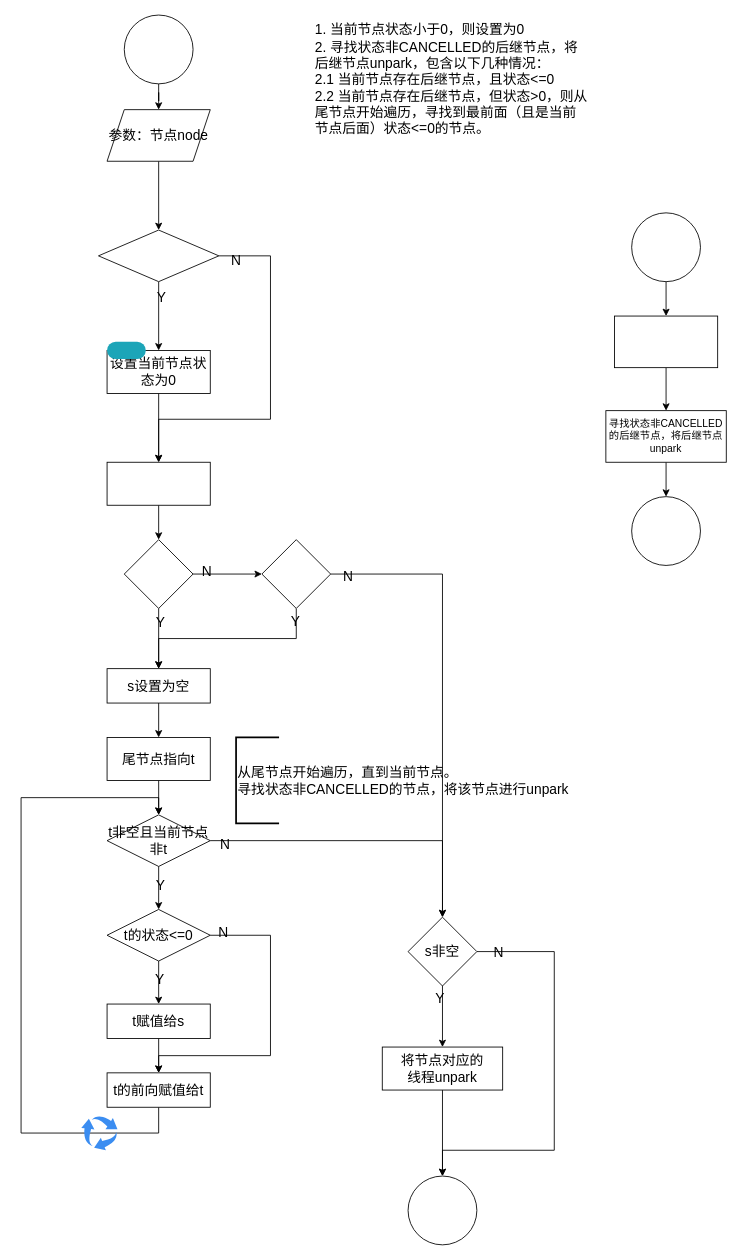
Some shapes in this 741 by 1260 pixel diagram are drawn without their labels. The centre of each missing label's shape, as x and y in pixels:
"CAS" belongs at (126,350).
"s为空" belongs at (158,573).
"s状态>0" belongs at (296,573).
"当前节点状态<0" belongs at (158,255).
"当前节点状态小于0，则设置为0" belongs at (666,341).
"当前节点的后向指向s" belongs at (158,483).
